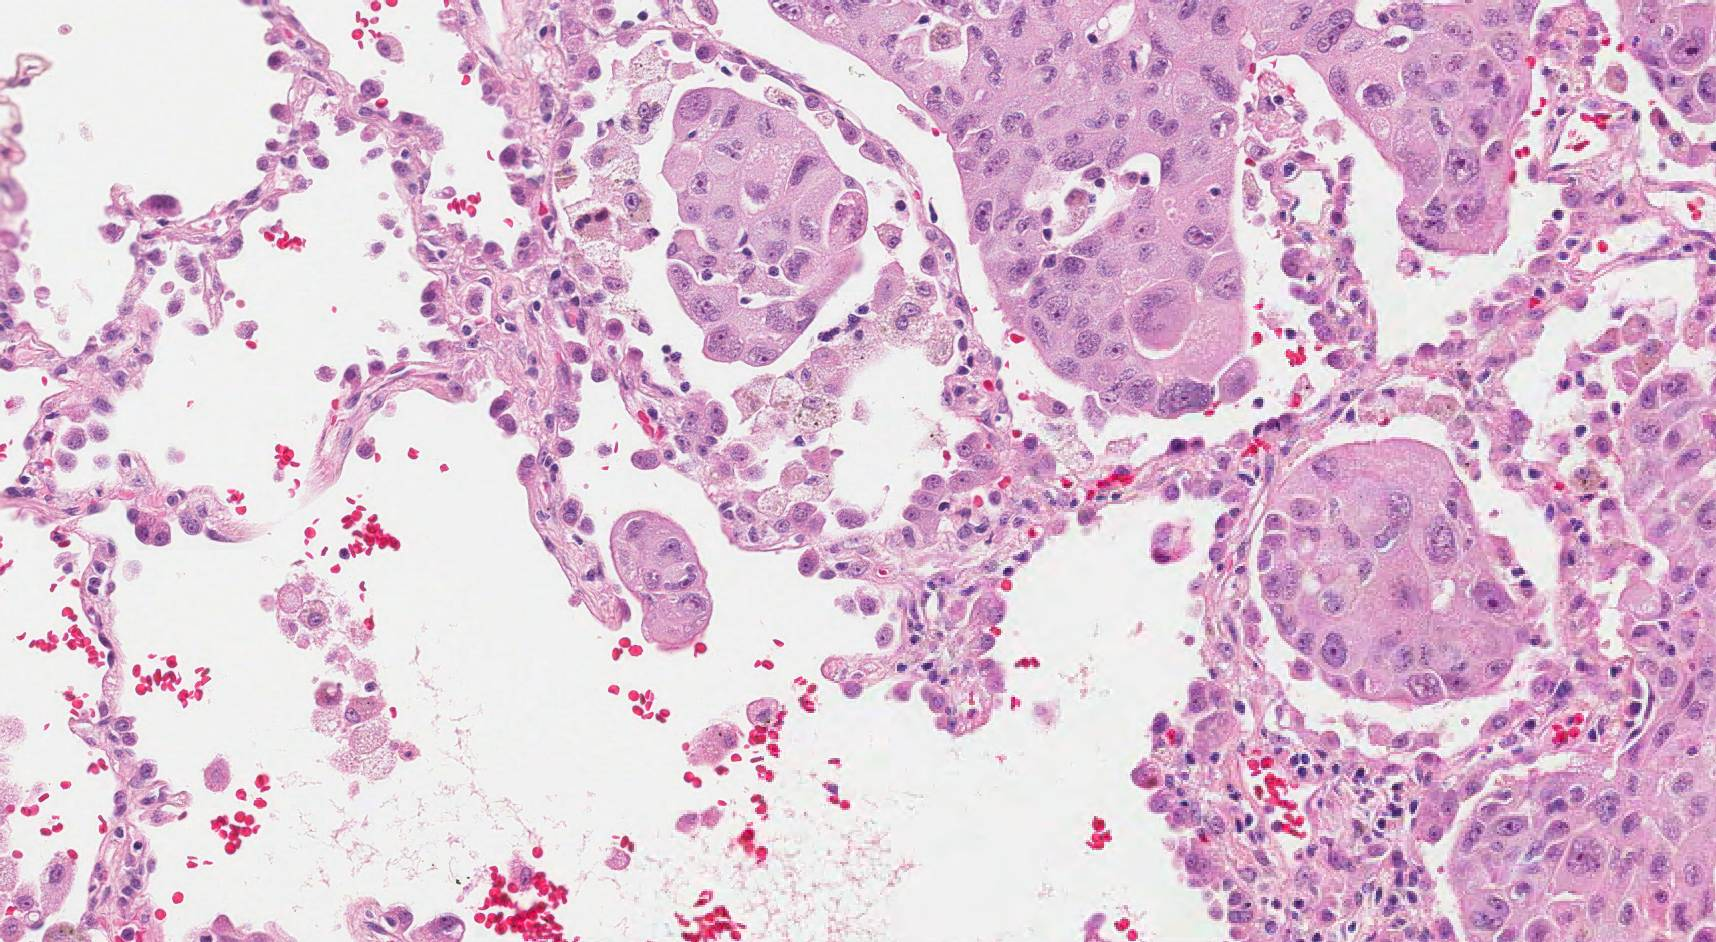stas: (1257, 437, 1533, 706), (664, 87, 872, 369), (610, 509, 712, 652)
